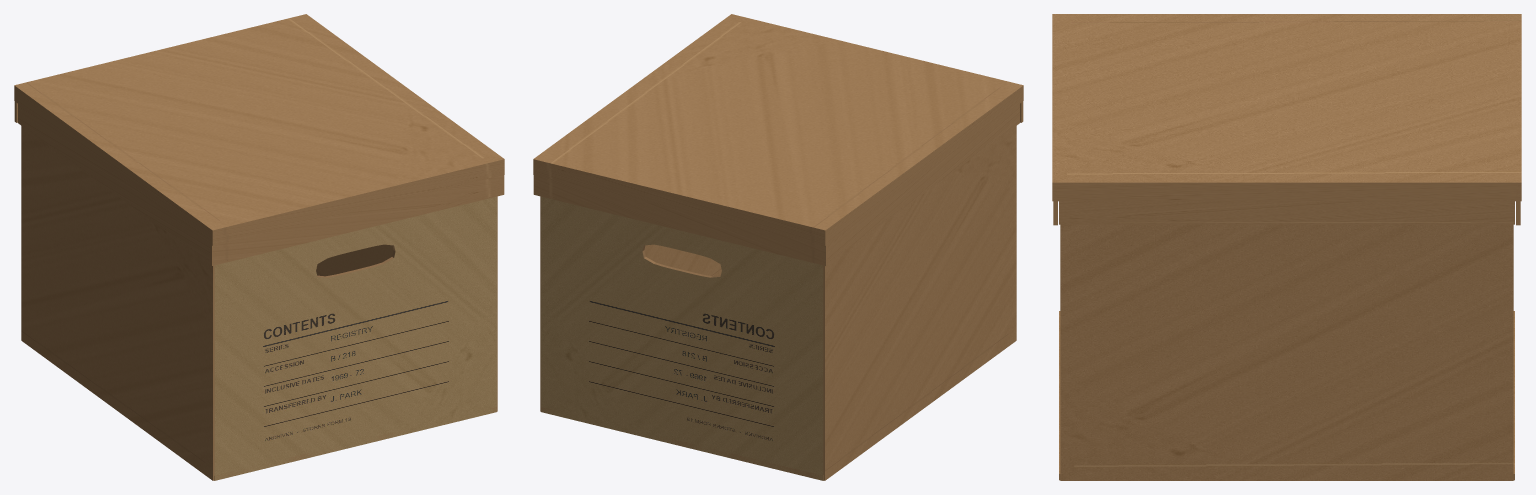
Rendered from record_case_1.gltf.
3 renders of one model, left to right at view 1: azimuth 30°, elevation 25°; view 2: azimuth 150°, elevation 25°; view 3: azimuth 270°, elevation 25°, orthographic. The views are drawn at different scales.
Visible parts, largest first — view 1: record_case_1; view 2: record_case_1; view 3: record_case_1.
Boxes of the visible parts, x1,y1,x2,y2 form: record_case_1: (14,14,504,480); record_case_1: (533,14,1023,480); record_case_1: (1052,14,1521,480).
Bounding box in the file's own units: 0.353 × 0.293 × 0.415.
Materials: 3 (2 with a texture image).
